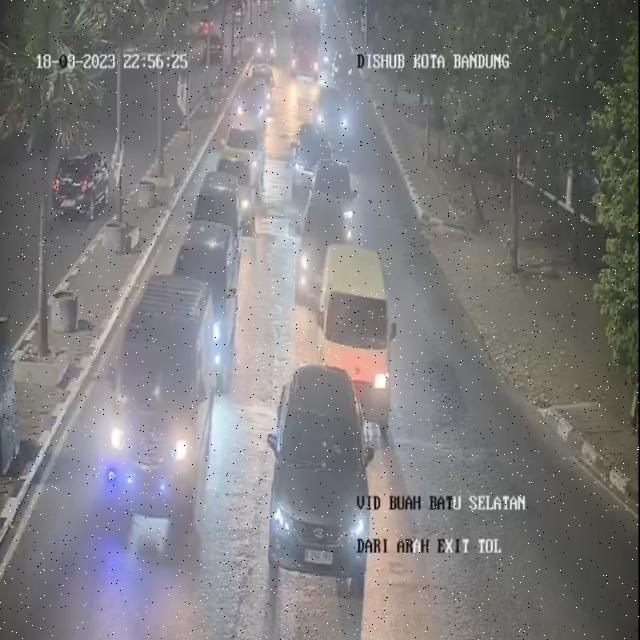cars: (101, 269, 216, 554), (270, 356, 369, 587), (320, 242, 398, 430), (171, 223, 236, 352), (295, 192, 350, 310), (188, 167, 241, 275), (312, 154, 360, 236), (293, 126, 336, 212), (216, 146, 258, 221), (313, 83, 352, 149), (231, 110, 269, 172), (238, 76, 270, 127)
truck: (290, 14, 318, 82)
